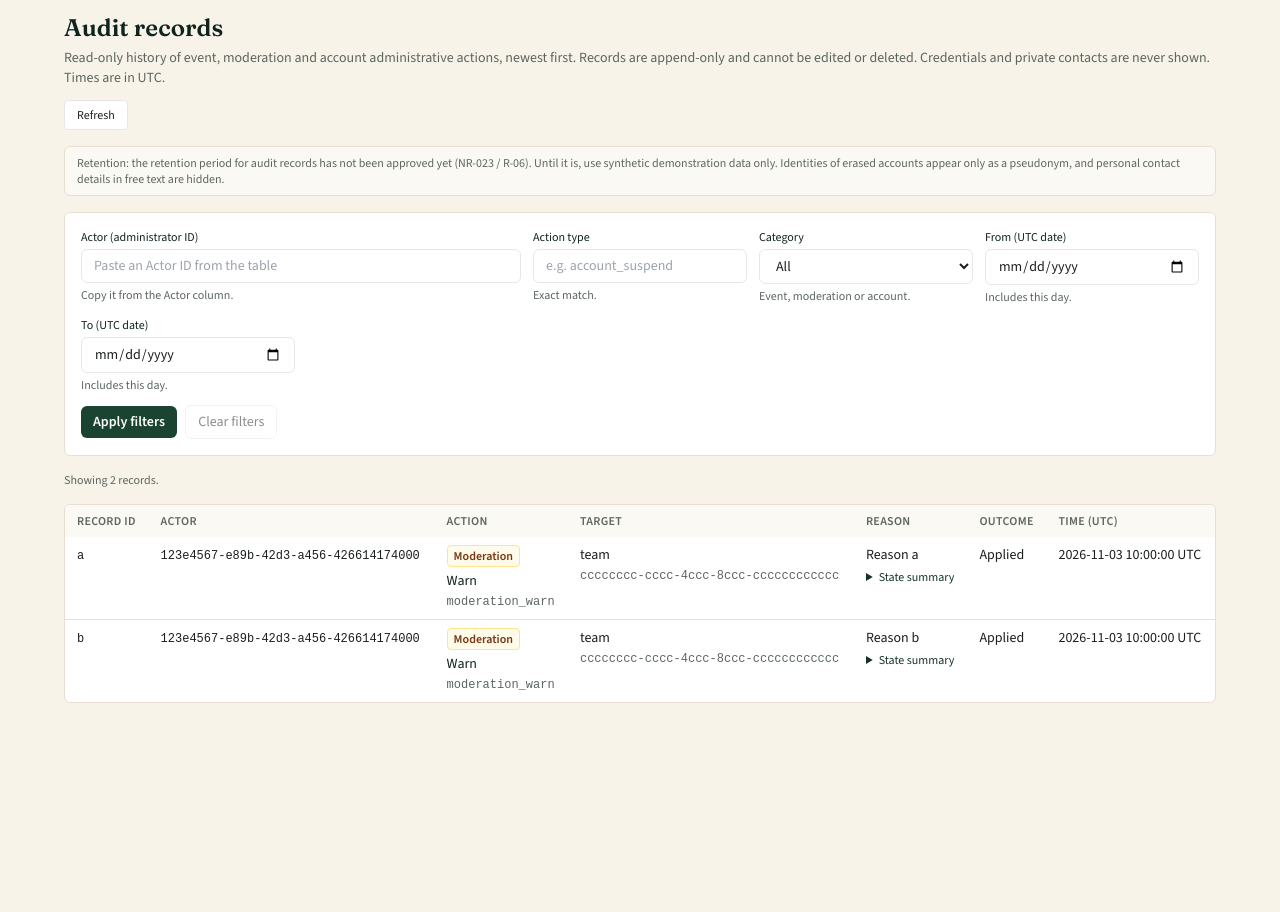
Scenario: AuditRecordsPage filters (US-028 / #260) › applies action type, category and an inclusive UTC date range together
Type "account_suspend" into the field with test id "audit-filter-actionType" at coordinates (640, 266), box [533,249,747,283]
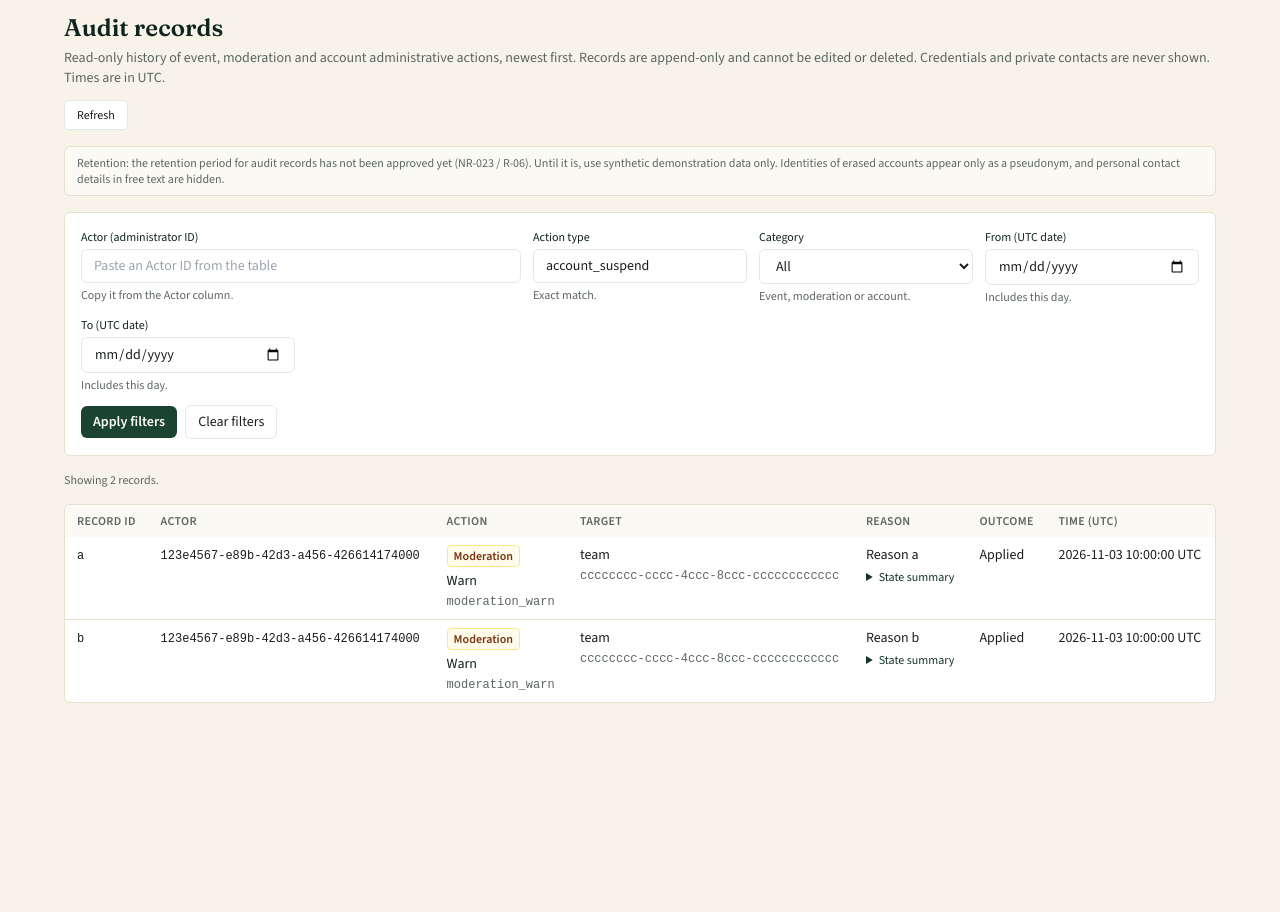
Select "Account" in the dropdown with test id "audit-filter-category" at coordinates (866, 266), box [759,249,973,284]
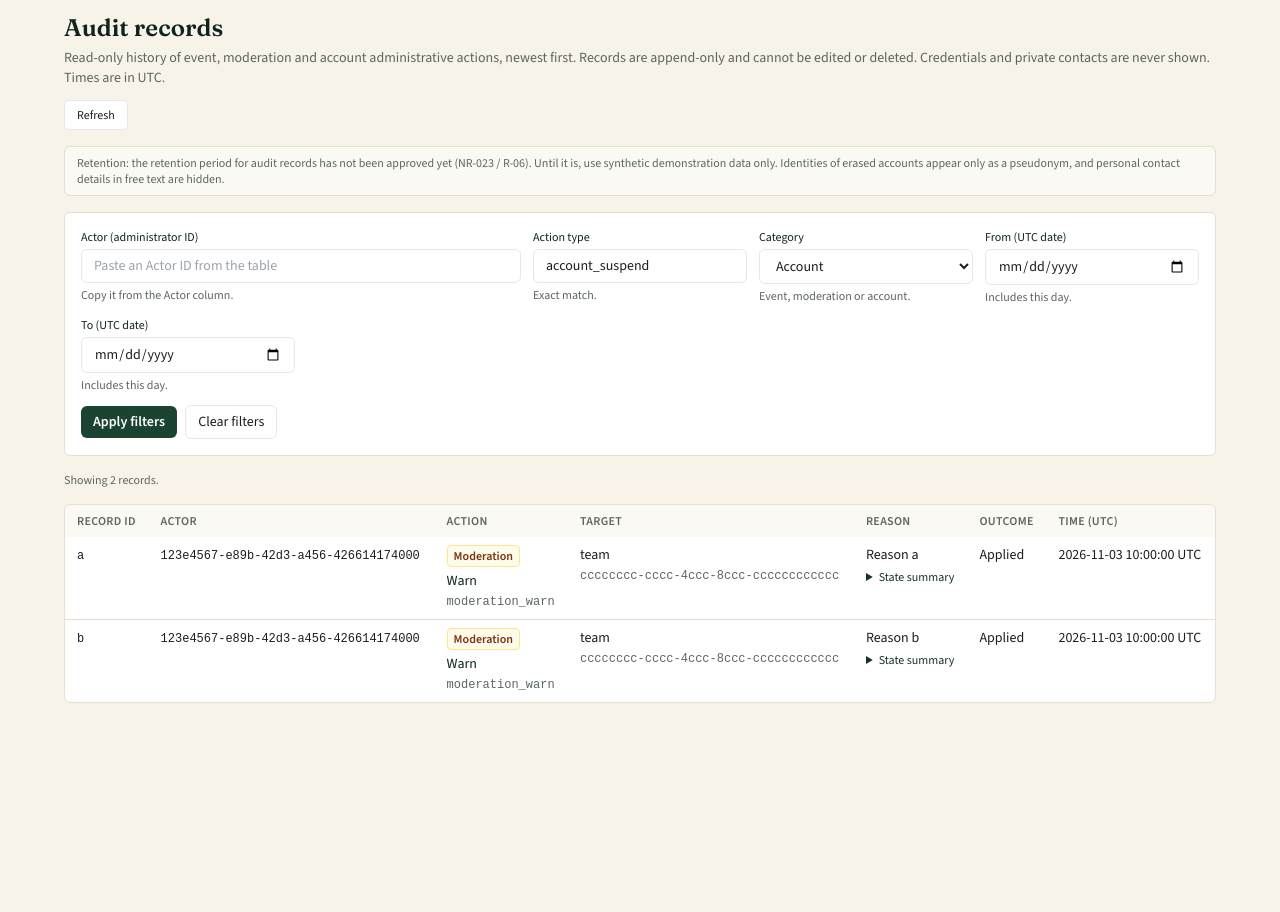
Type "2026-11-01" into the date field with test id "audit-filter-from" at coordinates (1092, 267), box [985,249,1199,285]
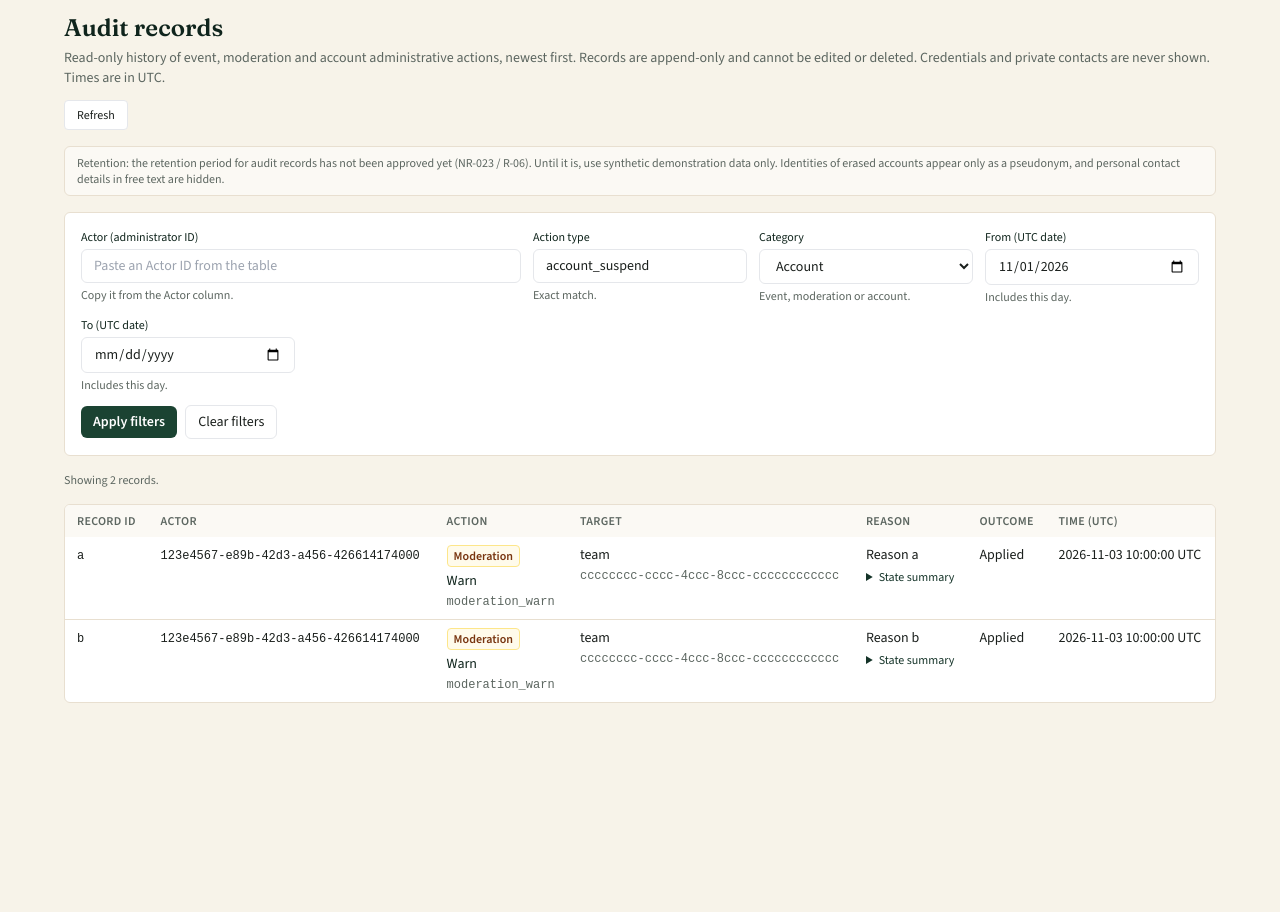
Type "2026-11-03" into the date field with test id "audit-filter-to" at coordinates (188, 355), box [81,337,295,373]
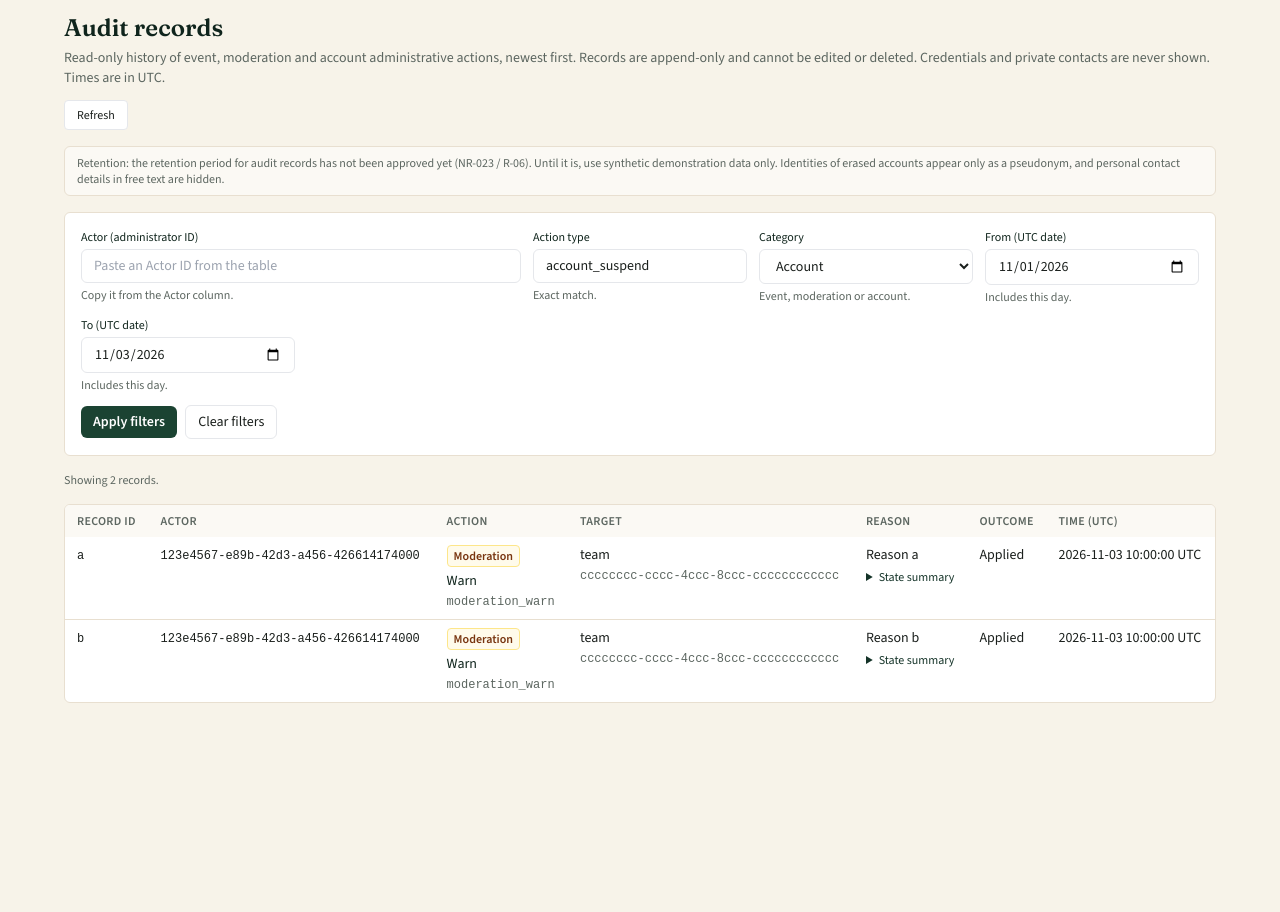
Click the button with test id "audit-filter-apply" at coordinates (129, 422), box [81,406,177,438]
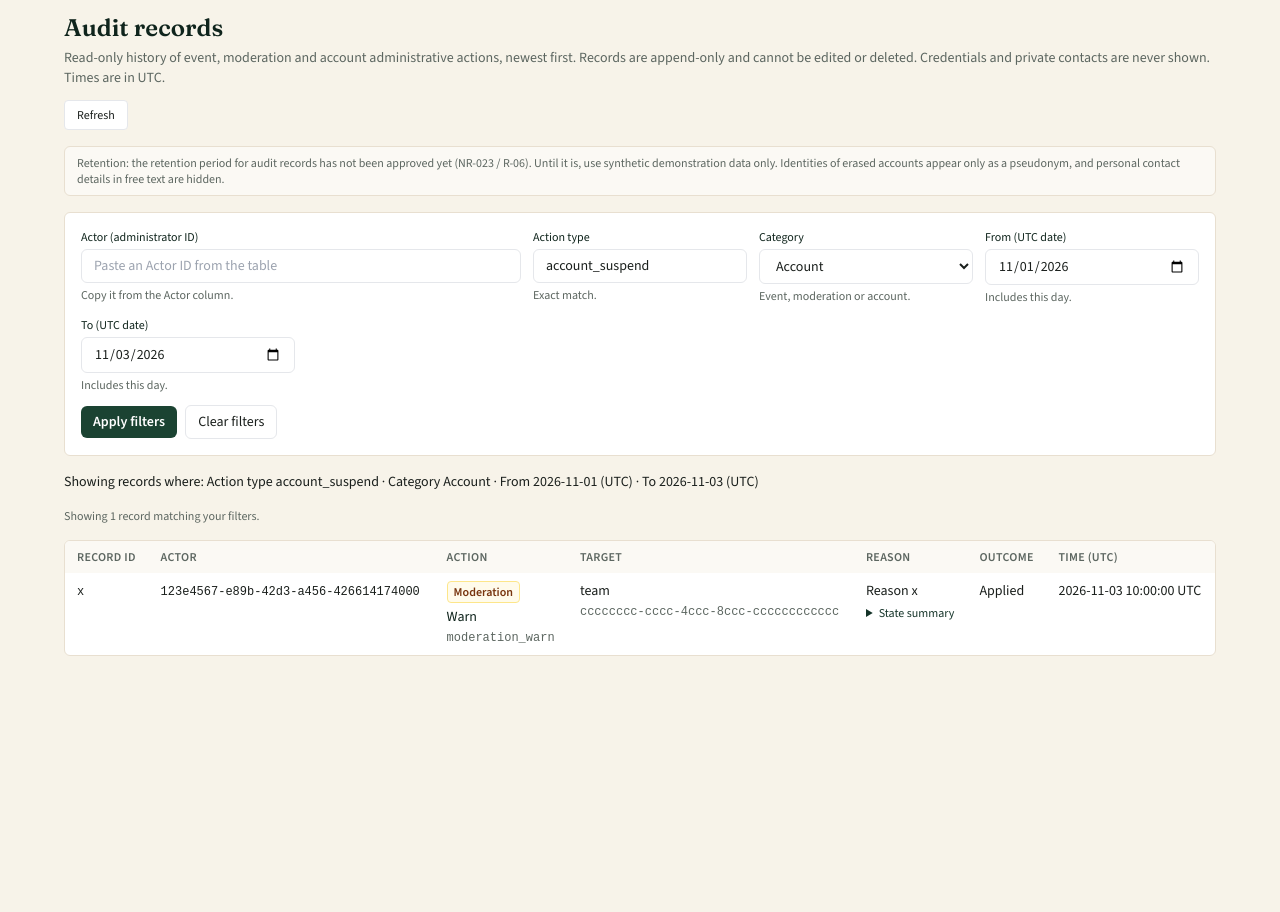
Expected: the row with test id "audit-row-x" is shown, [65,573,1215,655]
